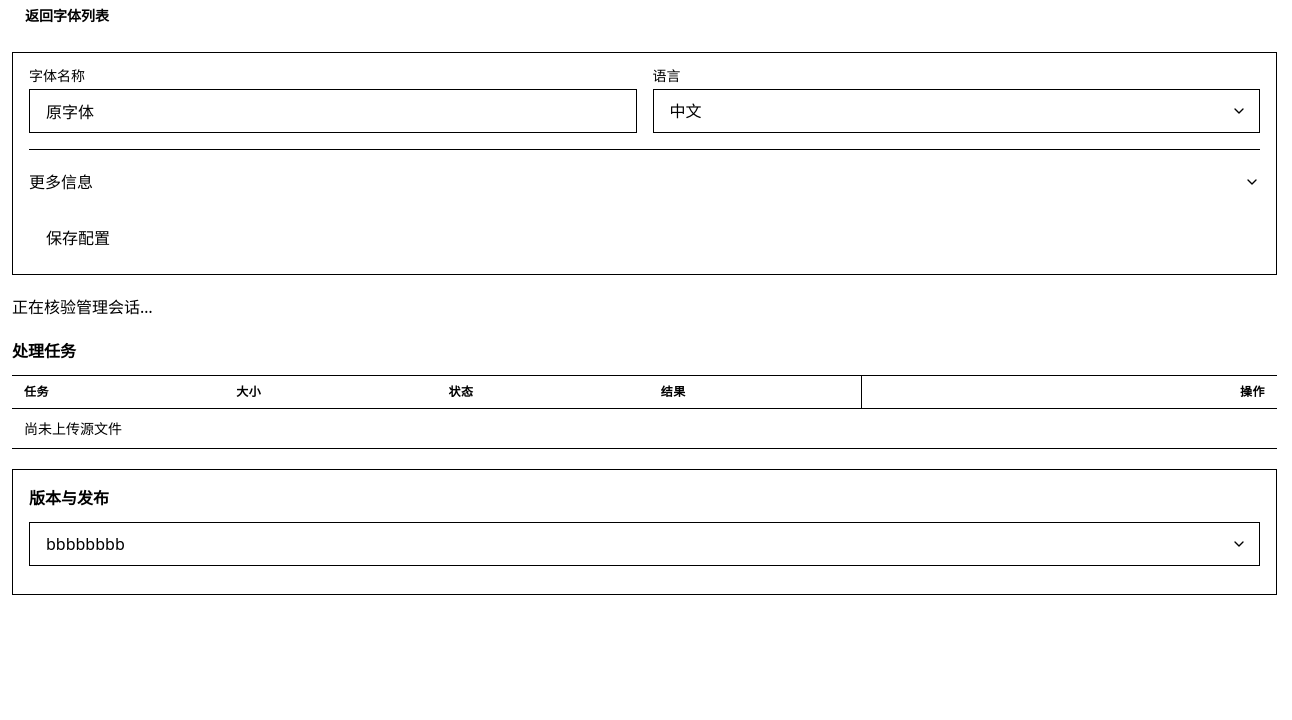
Scenario: 修订冲突保留编辑输入，读取最新状态后可重新提交
Replace the text in the field labelled "字体名称" with "本地编辑". click: {"x": 333, "y": 111}
box: [29,89,636,133]
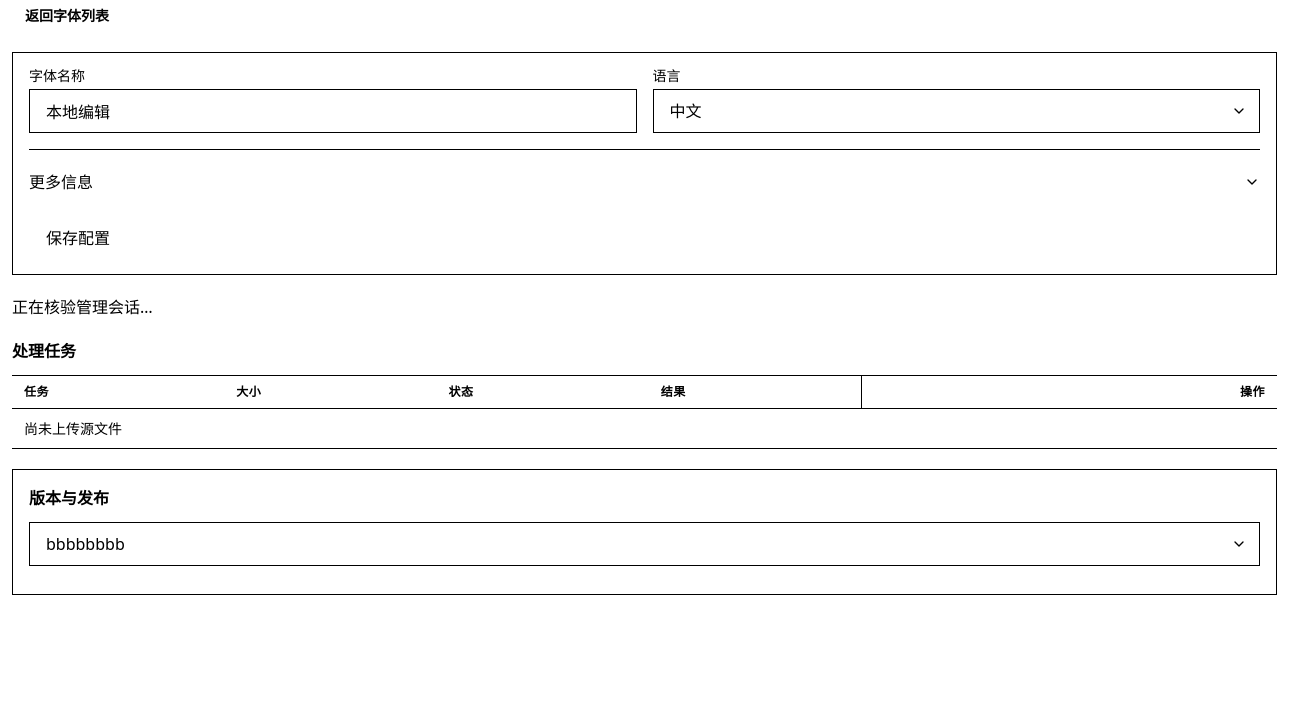
Click the button "保存配置". click: {"x": 78, "y": 238}
box: [29,218,127,258]
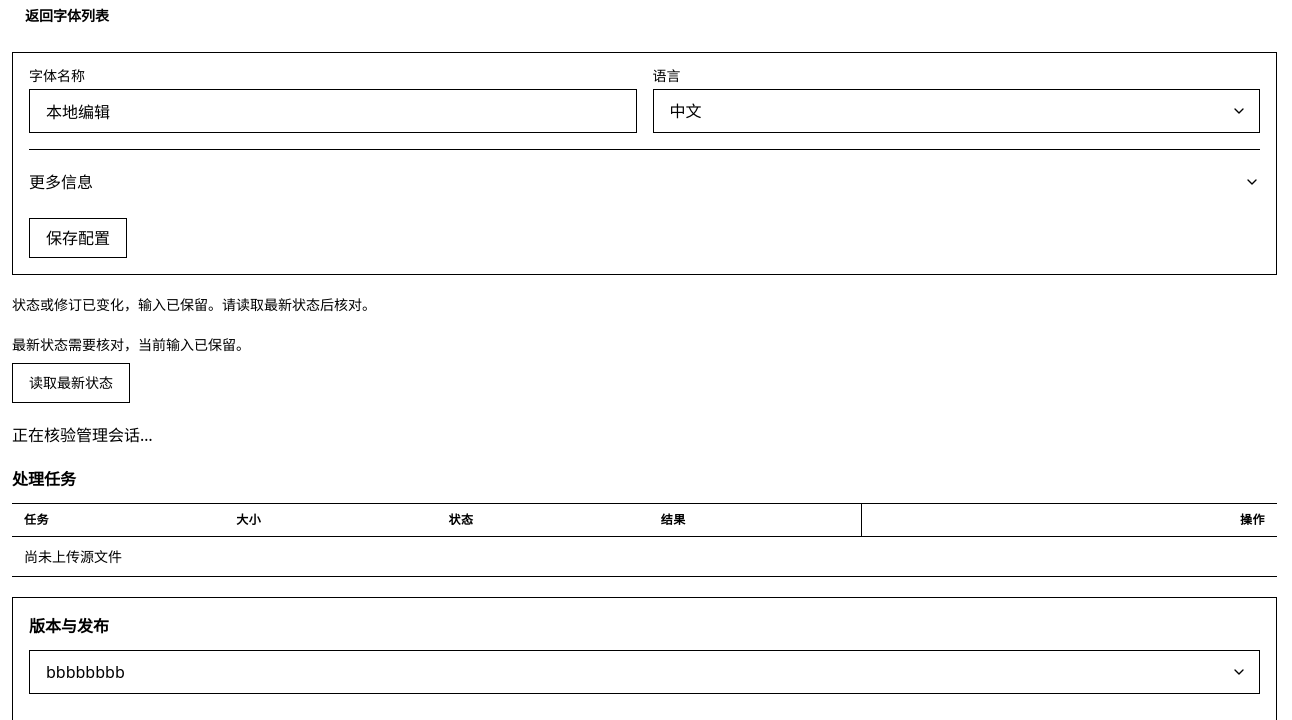
Expected: the button "读取最新状态" is shown
Click the button "读取最新状态". click: {"x": 71, "y": 383}
box: [12,363,130,403]
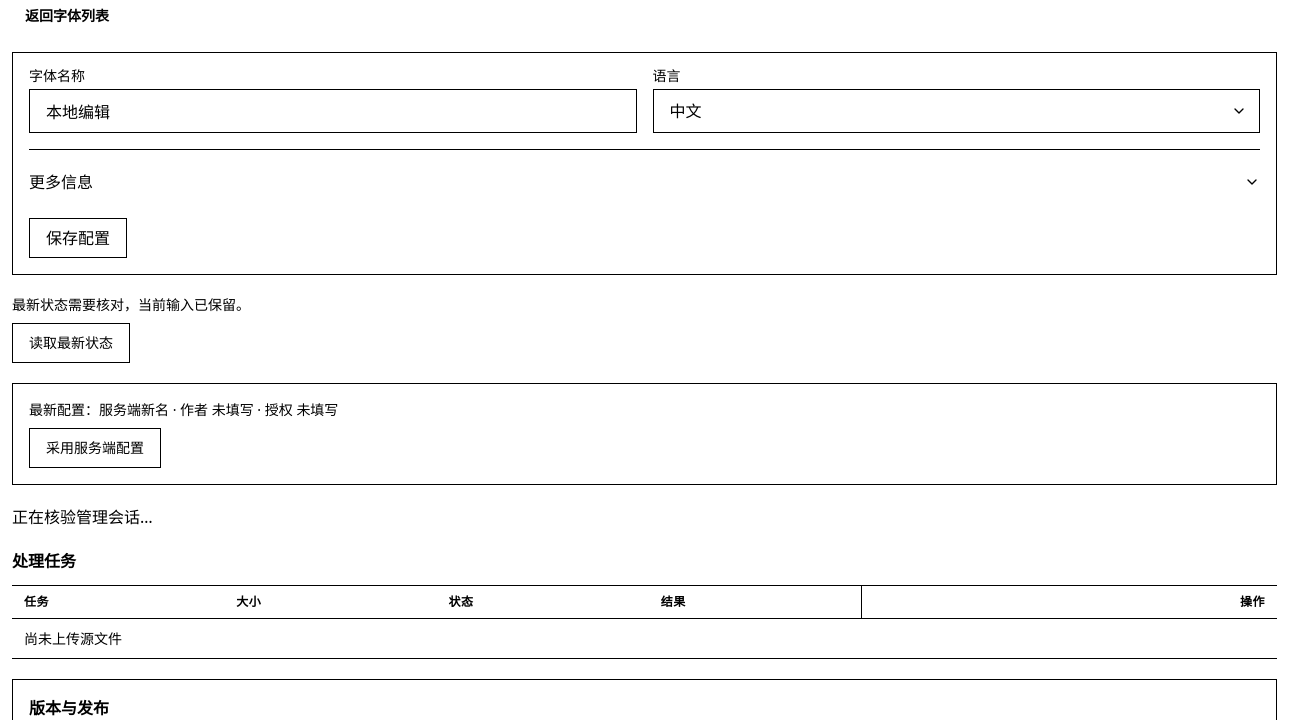
Expected: the button "采用服务端配置" is shown
Click the button "采用服务端配置". click: {"x": 95, "y": 448}
box: [29,428,161,468]
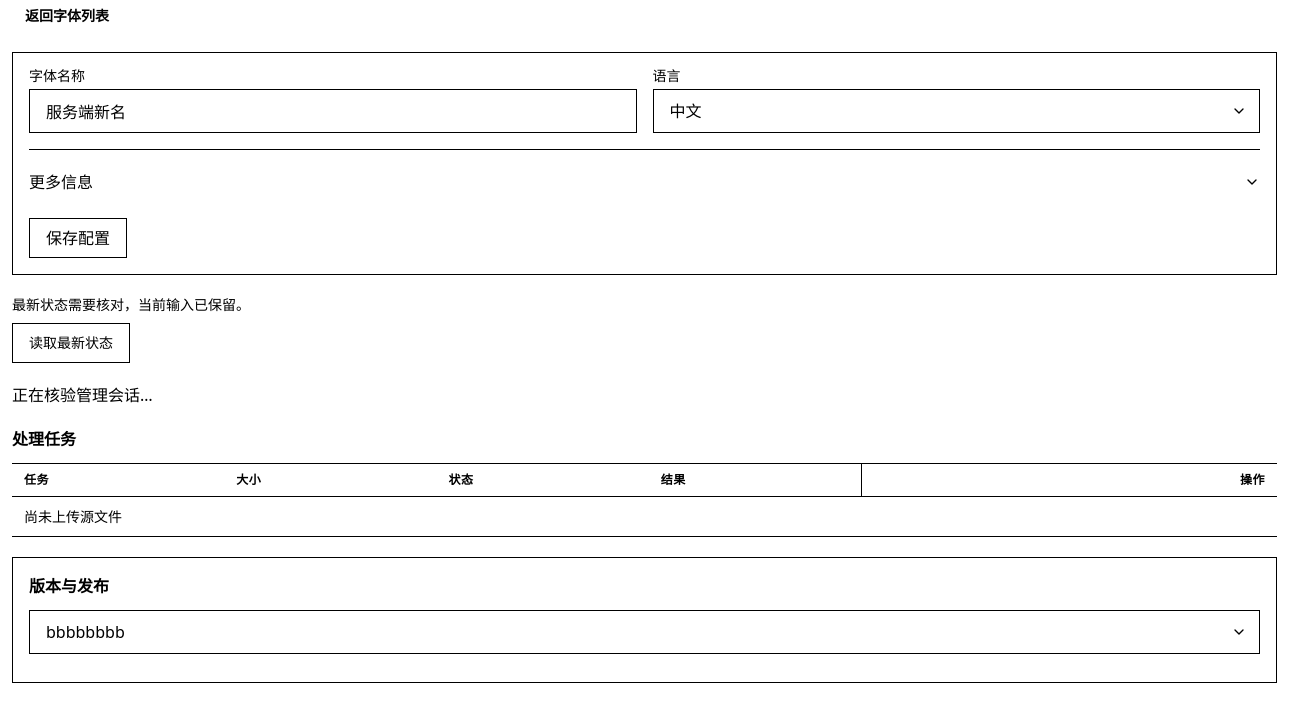
Expected: the field labelled "字体名称" holds "服务端新名", [29,89,636,133]
